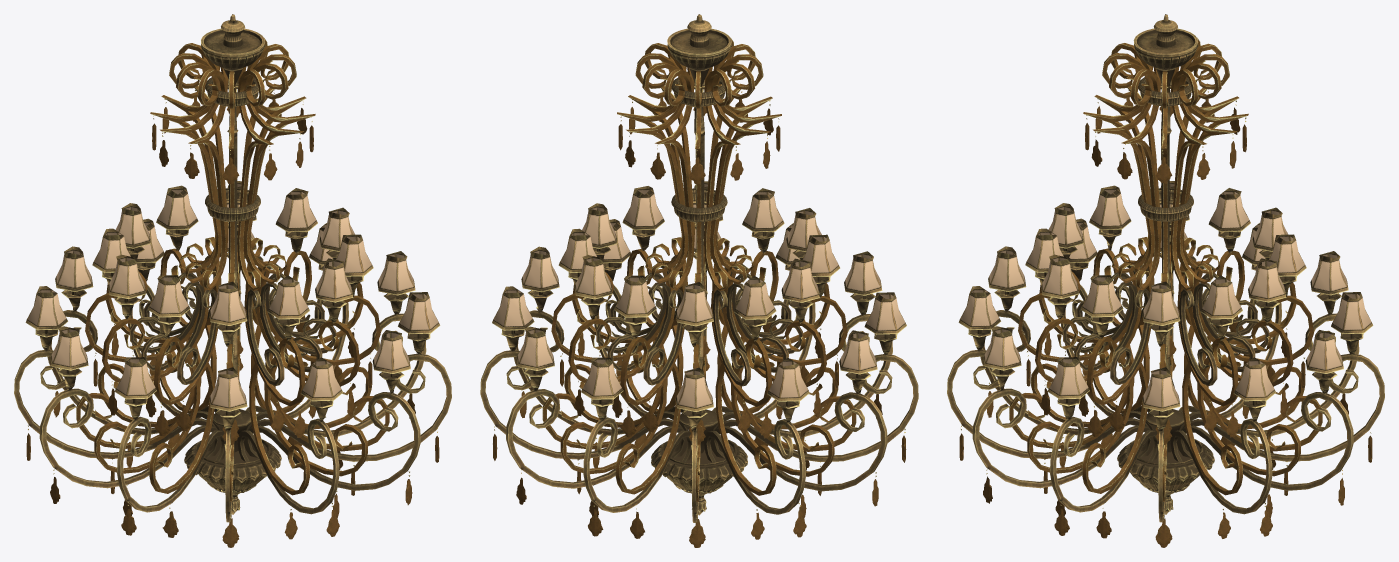
File: Chandelier.fbx
The picture shows the model from 3 angles, left to right: view 1: azimuth 30°, elevation 25°; view 2: azimuth 150°, elevation 25°; view 3: azimuth 270°, elevation 25°; orthographic projection.
Visible parts, largest first — view 1: SM_chandelier_LOD0; view 2: SM_chandelier_LOD0; view 3: SM_chandelier_LOD0.
Boxes of the visible parts, bbox=[...] form: SM_chandelier_LOD0: bbox=[14, 14, 451, 547]; SM_chandelier_LOD0: bbox=[480, 14, 918, 547]; SM_chandelier_LOD0: bbox=[947, 14, 1384, 547].
Size of the model in its own units: 329 by 415 by 329.
